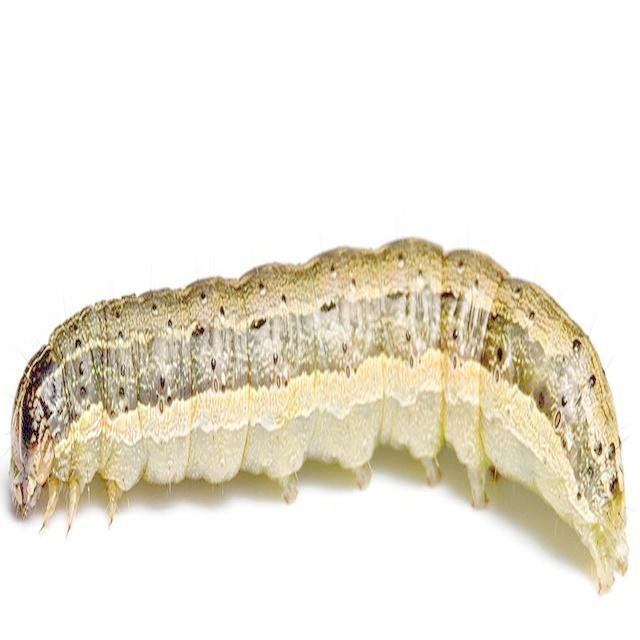gusano_cogollero: (8, 236, 628, 596)
